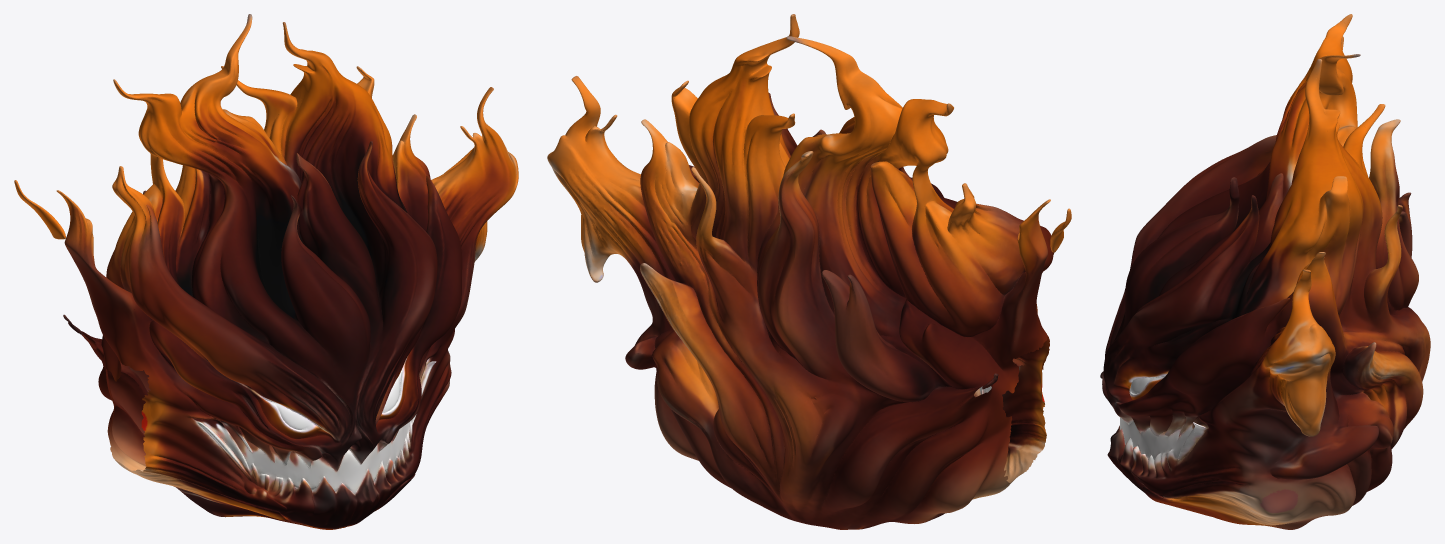
File: flame.glb
3 renders of one model, left to right at view 1: azimuth 30°, elevation 25°; view 2: azimuth 150°, elevation 25°; view 3: azimuth 270°, elevation 25°, orthographic. The views are drawn at different scales.
Parts seen in each view (by area): view 1: model; view 2: model; view 3: model.
Part boxes in pixels (left/top/right/bottom): model: left=14, top=14, right=518, bottom=529; model: left=547, top=14, right=1071, bottom=529; model: left=1100, top=14, right=1430, bottom=529.
Bounding box in the file's own units: 1.9 × 1.7 × 1.11.
Materials: 1 (1 with a texture image).
